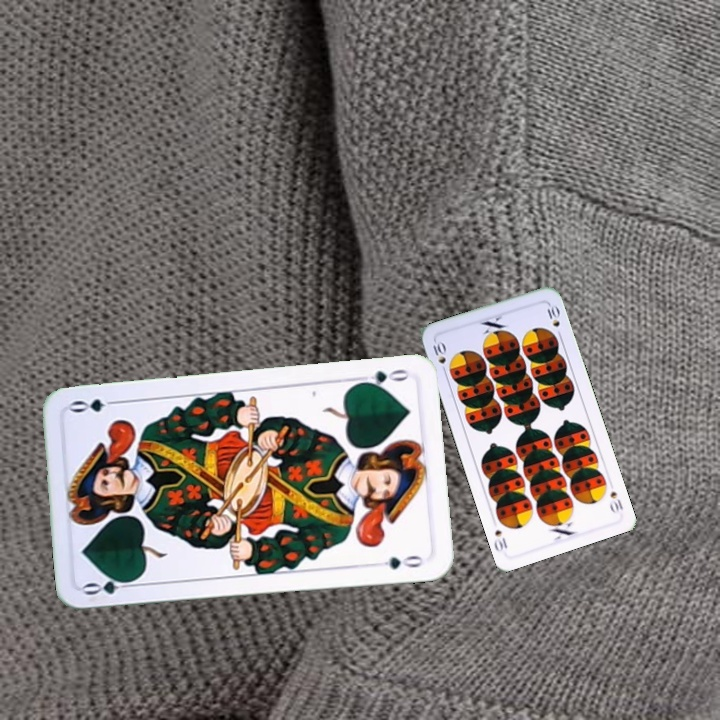GO: (352, 365, 411, 391), (80, 574, 140, 598)
S10: (429, 337, 449, 377), (606, 486, 626, 515)
